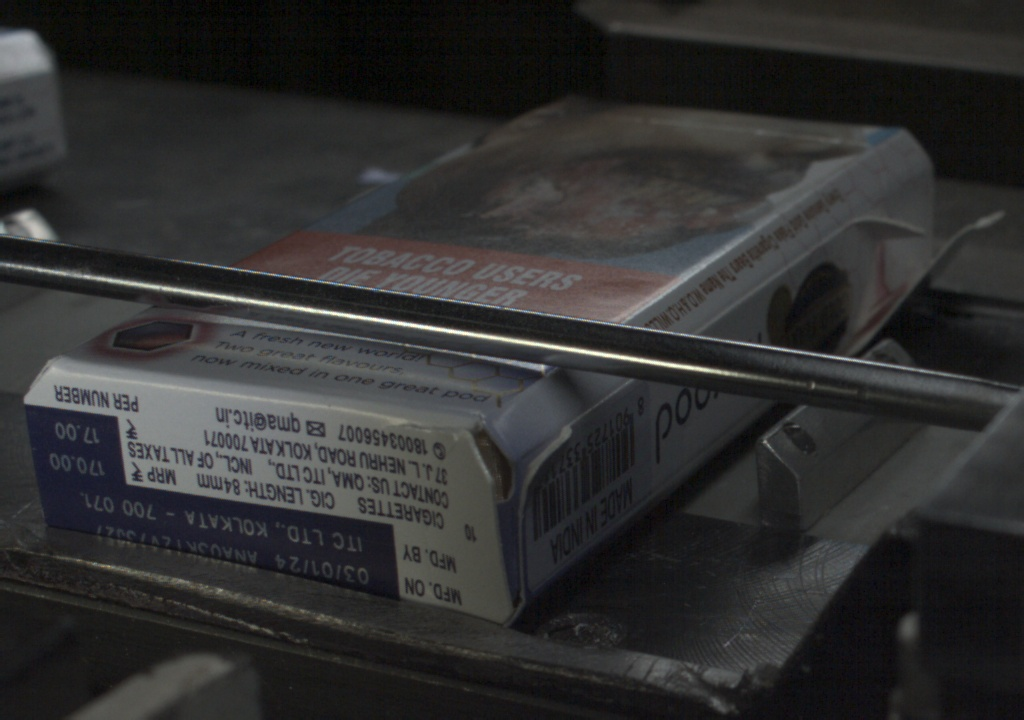g_label: (41, 487, 411, 608)
g_lmiter: (740, 233, 825, 307), (582, 380, 633, 416)
ng_bottom: (444, 422, 519, 620)
ng_lmiter: (518, 422, 570, 517), (852, 210, 918, 256)
ng_miter: (912, 186, 995, 285)
price: (35, 410, 133, 485)
